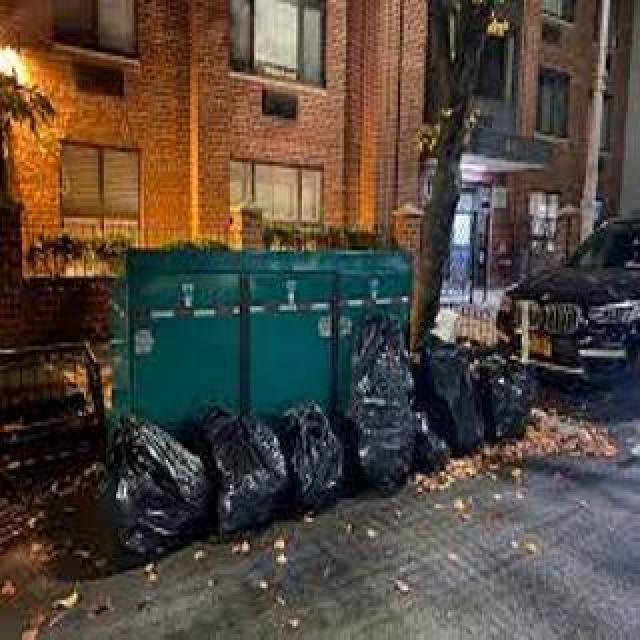high trash: (110, 340, 536, 568)
